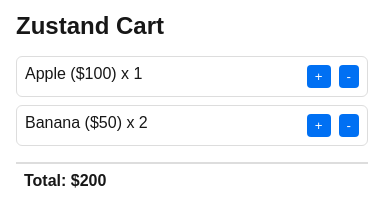
Test: Zustand CartPage › + を押すと、商品が追加されること
The width and height of the screenshot is (385, 215).
Click the button "+" in the row of "Apple": [319, 76] box left=307, top=65, right=331, bottom=88
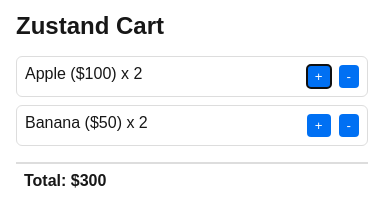
Click the button "+" in the row of "Banana": [319, 126] box left=307, top=114, right=331, bottom=137
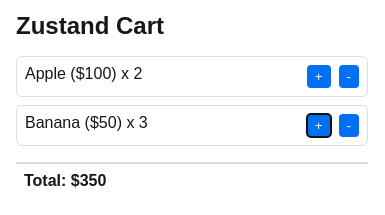
Expected: the text "Apple ($100) x 2" is shown, left=25, top=65, right=142, bottom=88
Expected: the text "Banana ($50) x 3" is shown, left=25, top=114, right=148, bottom=137
Expected: the text "Total: $350" is shown, left=16, top=162, right=368, bottom=198
